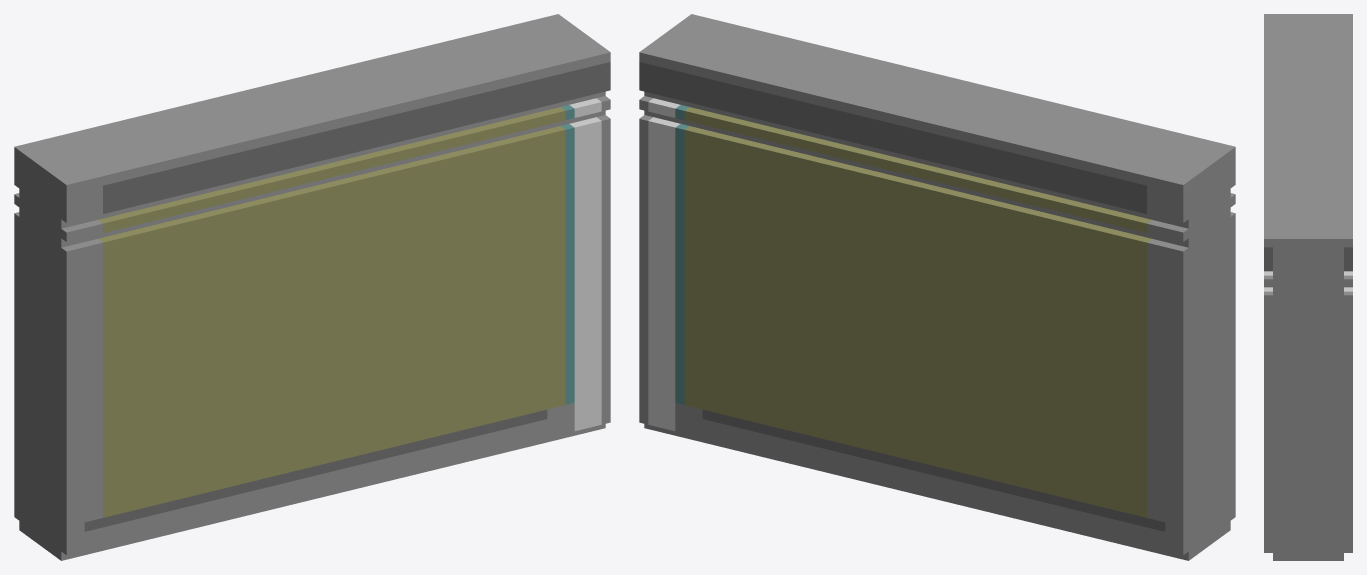
File: Conference Room Wall 3.obj
3 renders of one model, left to right at view 1: azimuth 30°, elevation 25°; view 2: azimuth 150°, elevation 25°; view 3: azimuth 270°, elevation 25°, orthographic. The views are drawn at different scales.
Size of the model in its own units: 60 by 40 by 10.
1 material, 1 textured.
